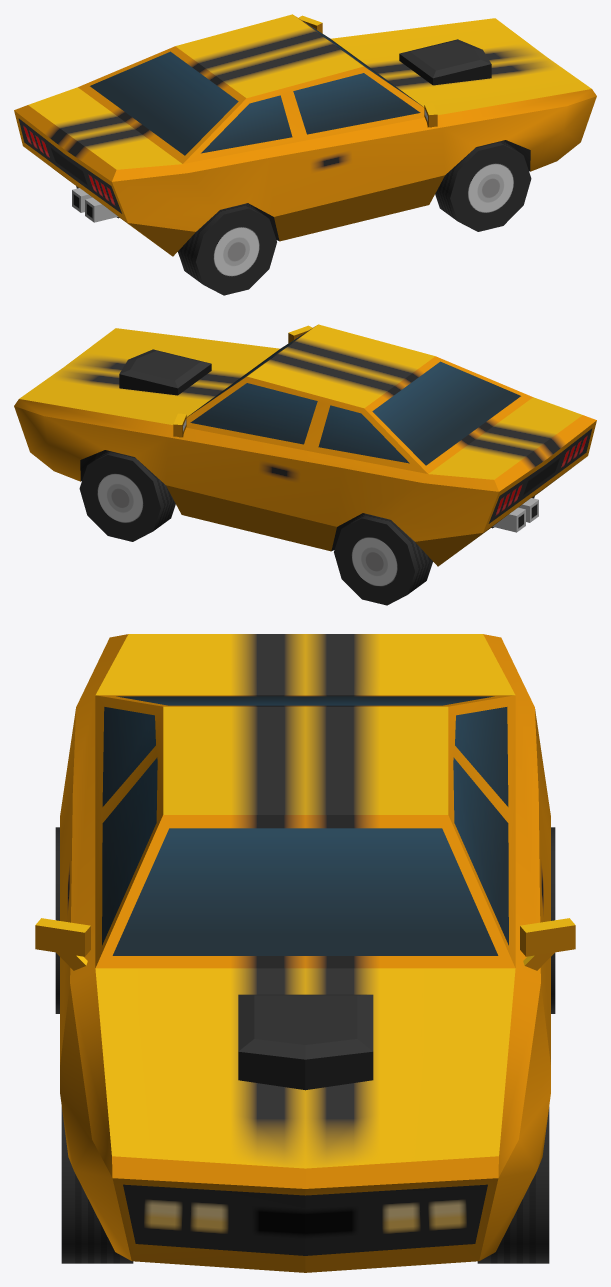
File: Car_223.glb
The picture shows the model from 3 angles, top to bottom: view 1: azimuth 30°, elevation 25°; view 2: azimuth 150°, elevation 25°; view 3: azimuth 270°, elevation 25°; orthographic projection. The views are drawn at different scales.
Parts seen in each view (by area): view 1: Car_223, wheel_3_Car_223_Wheel_2R, wheel_1_Car_223_Wheel_1R; view 2: Car_223, wheel_2_Car_223_Wheel_2L, wheel_0_Car_223_Wheel_1L; view 3: Car_223, wheel_0_Car_223_Wheel_1L, wheel_1_Car_223_Wheel_1R.
Part boxes in pixels (bbox=[...]): Car_223: bbox=[14, 14, 596, 256]; wheel_3_Car_223_Wheel_2R: bbox=[178, 203, 276, 295]; wheel_1_Car_223_Wheel_1R: bbox=[435, 140, 531, 231]; Car_223: bbox=[14, 324, 596, 566]; wheel_2_Car_223_Wheel_2L: bbox=[334, 513, 432, 605]; wheel_0_Car_223_Wheel_1L: bbox=[79, 450, 175, 541]; Car_223: bbox=[35, 634, 575, 1272]; wheel_0_Car_223_Wheel_1L: bbox=[477, 1107, 549, 1263]; wheel_1_Car_223_Wheel_1R: bbox=[61, 1107, 133, 1263].
Bounding box in the file's own units: 4.16 × 1.37 × 1.99.
1 material, 1 textured.
